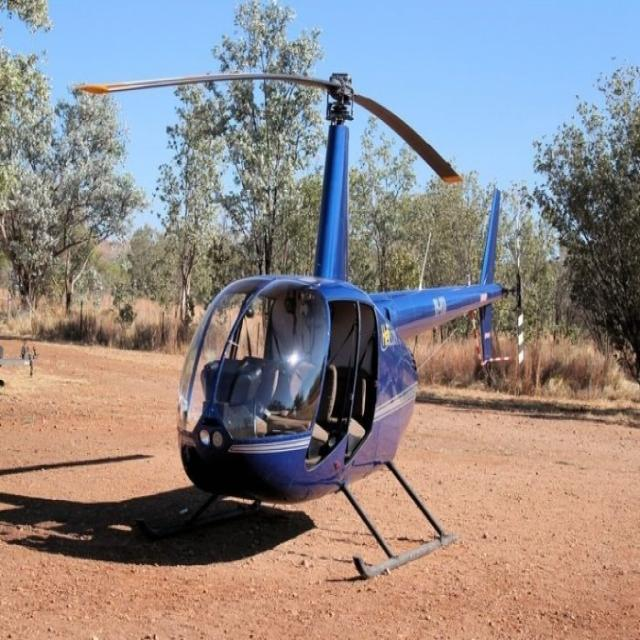CIV_HELO: (174, 68, 517, 582)
